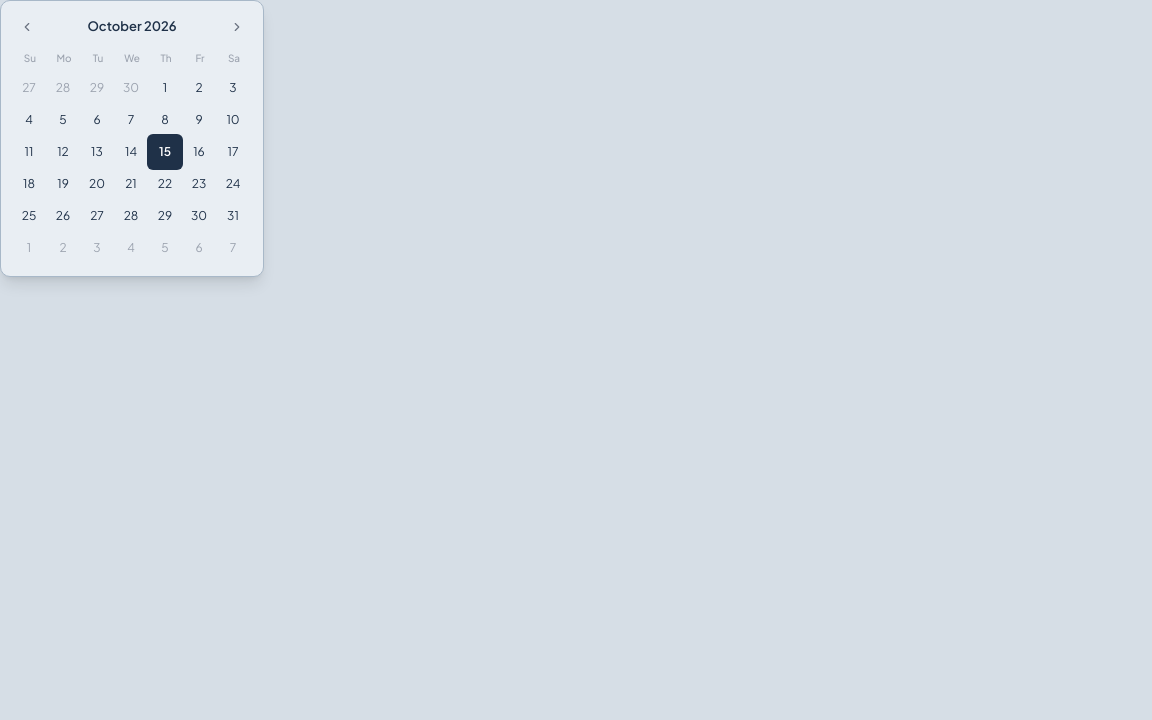
DatePickerPopover › PageDown on tabindex-0 day after Next month moves from that day, not valueDateStr
The width and height of the screenshot is (1152, 720).
Step 1. Click the button named "Next month" → (237, 27), box [223,13,251,41]
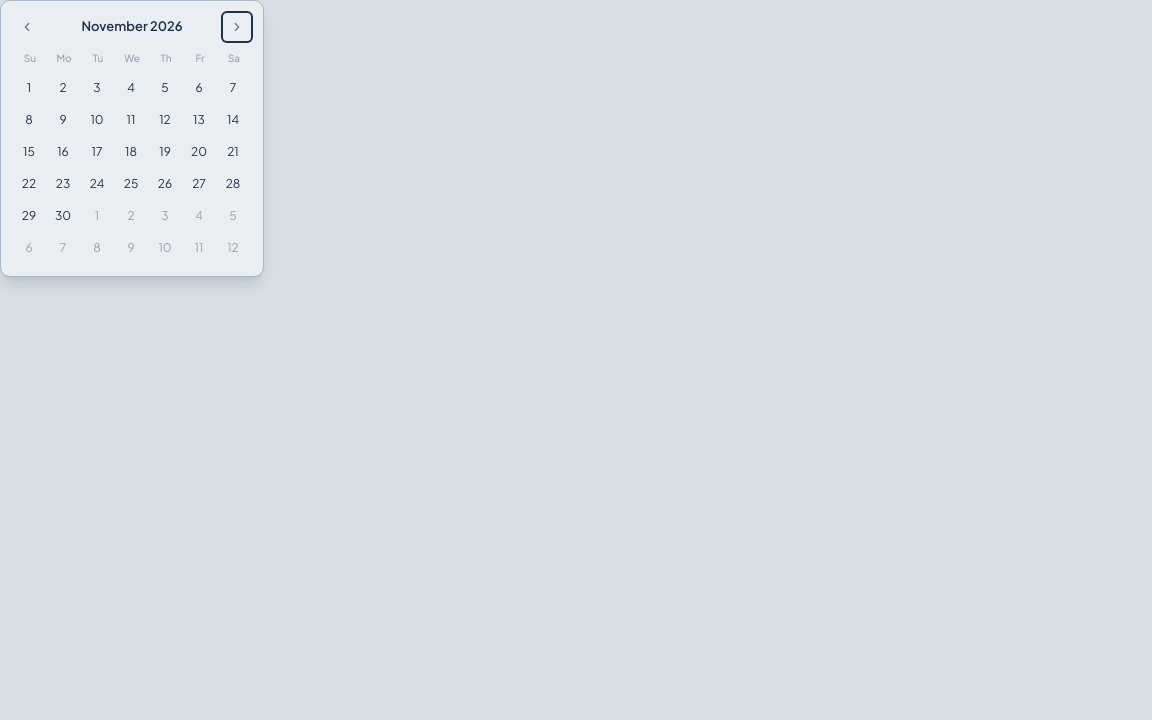
Step 2. Press PageDown in the 1st button "1", box [13,72,45,104]
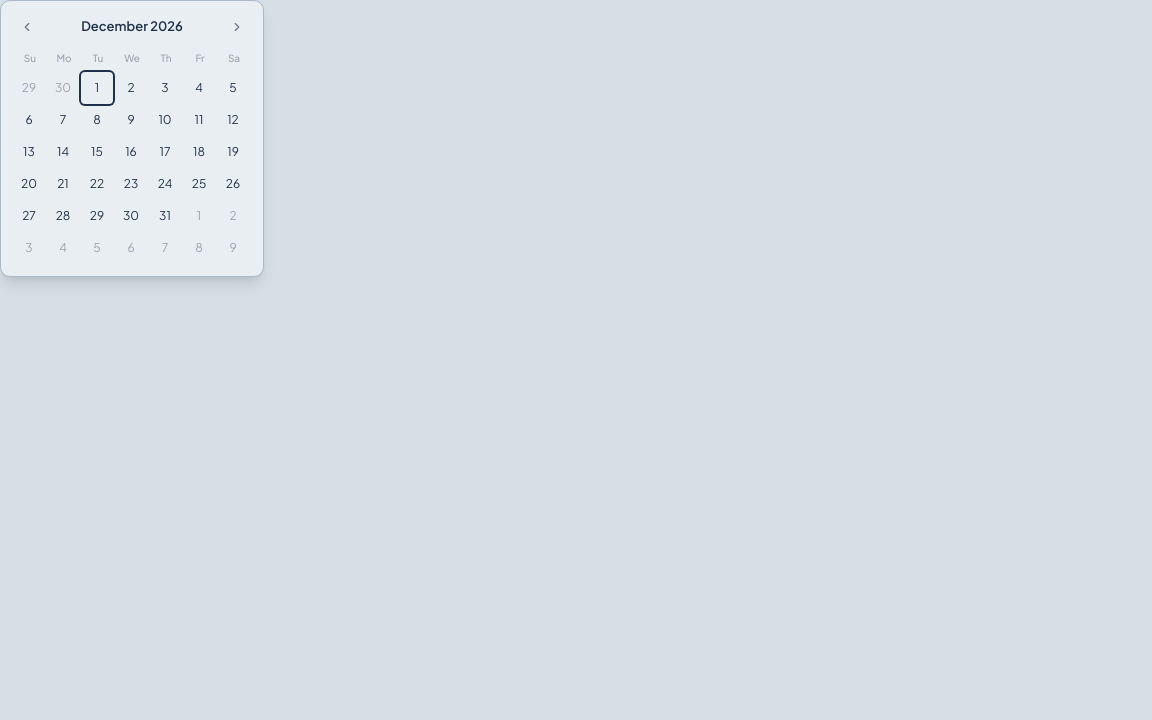
expect the text "December 2026" is shown: met, box [81,17,183,37]
